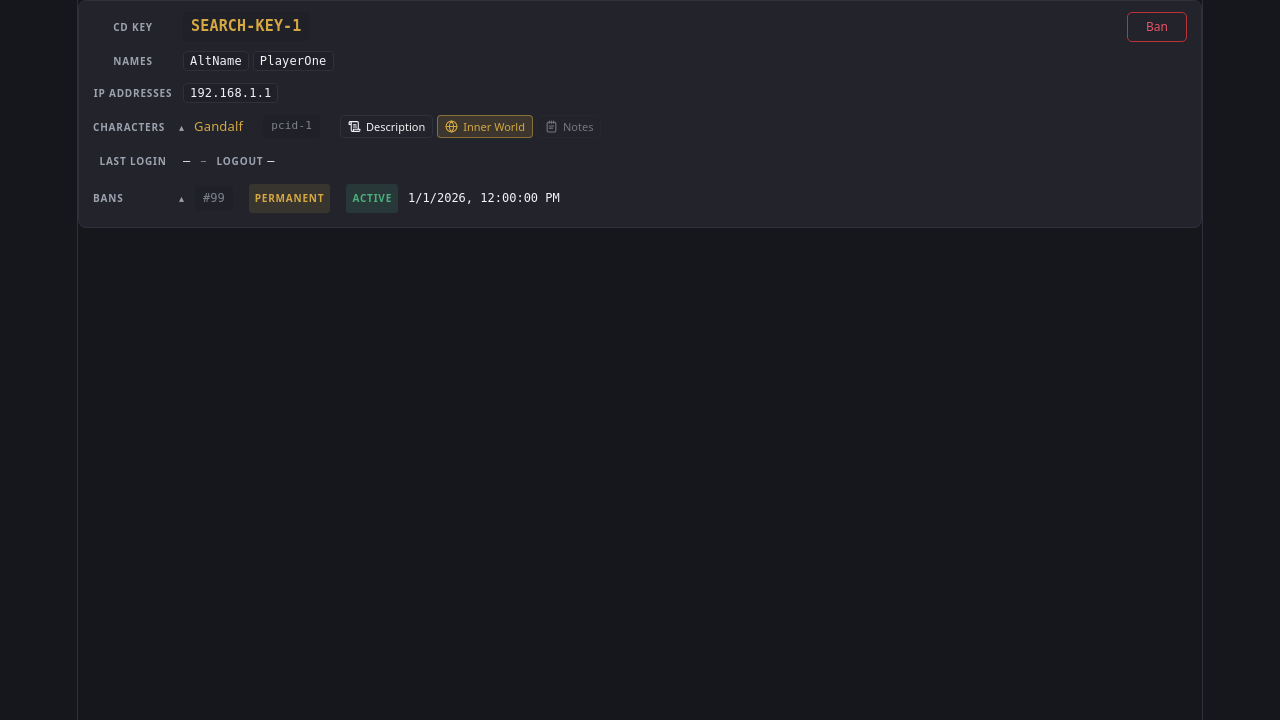
Test: PlayerSearchItem › opens the ban detail modal when a ban row is clicked
What coordinates should you click on to do the following:
click the button with aria-label "view ban #99 details"
I would click on:
 (214, 199)
Its box is [188,180,1193,217].
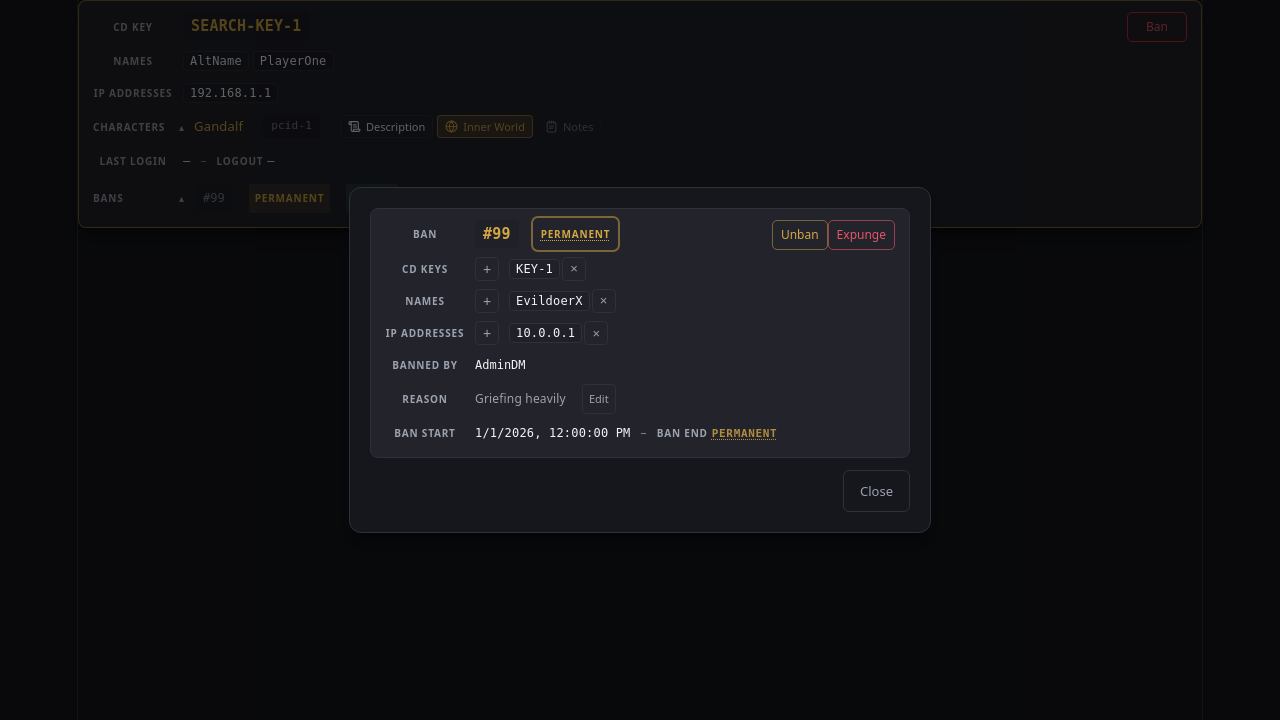
Check: the dialog is shown, box [349,187,931,533]
Check: the text "Griefing heavily" is shown, box [475,391,566,408]
